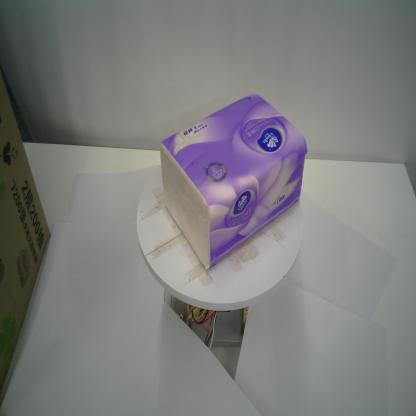Tissue: (158, 91, 308, 270)
